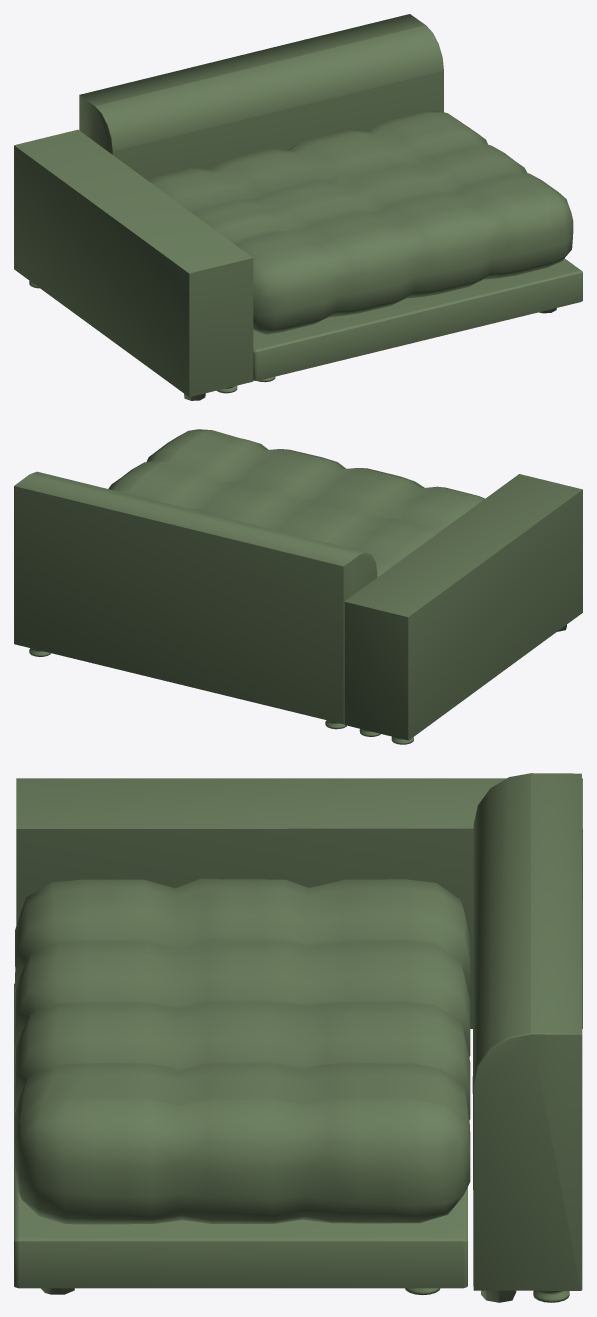
File: Modularsofa.fbx
The picture shows the model from 3 angles, top to bottom: view 1: azimuth 30°, elevation 25°; view 2: azimuth 150°, elevation 25°; view 3: azimuth 270°, elevation 25°; orthographic projection. The views are drawn at different scales.
Visible parts, largest first — view 1: Circle.010, Circle.008, Circle.009, Circle.007; view 2: Circle.009, Circle.008, Circle.010; view 3: Circle.010, Circle.009, Circle.008, Circle.007.
Part boxes in pixels (x1=…): Circle.010: x1=148, y1=111, x2=573, y2=334; Circle.008: x1=14, y1=129, x2=253, y2=400; Circle.009: x1=79, y1=14, x2=443, y2=180; Circle.007: x1=253, y1=258, x2=582, y2=382; Circle.009: x1=14, y1=471, x2=377, y2=729; Circle.008: x1=344, y1=474, x2=582, y2=744; Circle.010: x1=108, y1=429, x2=484, y2=577; Circle.010: x1=15, y1=878, x2=470, y2=1224; Circle.009: x1=472, y1=773, x2=582, y2=1302; Circle.008: x1=16, y1=778, x2=582, y2=1028; Circle.007: x1=14, y1=983, x2=467, y2=1295.
Size of the model in its own units: 113 by 46.27 by 86.81.
